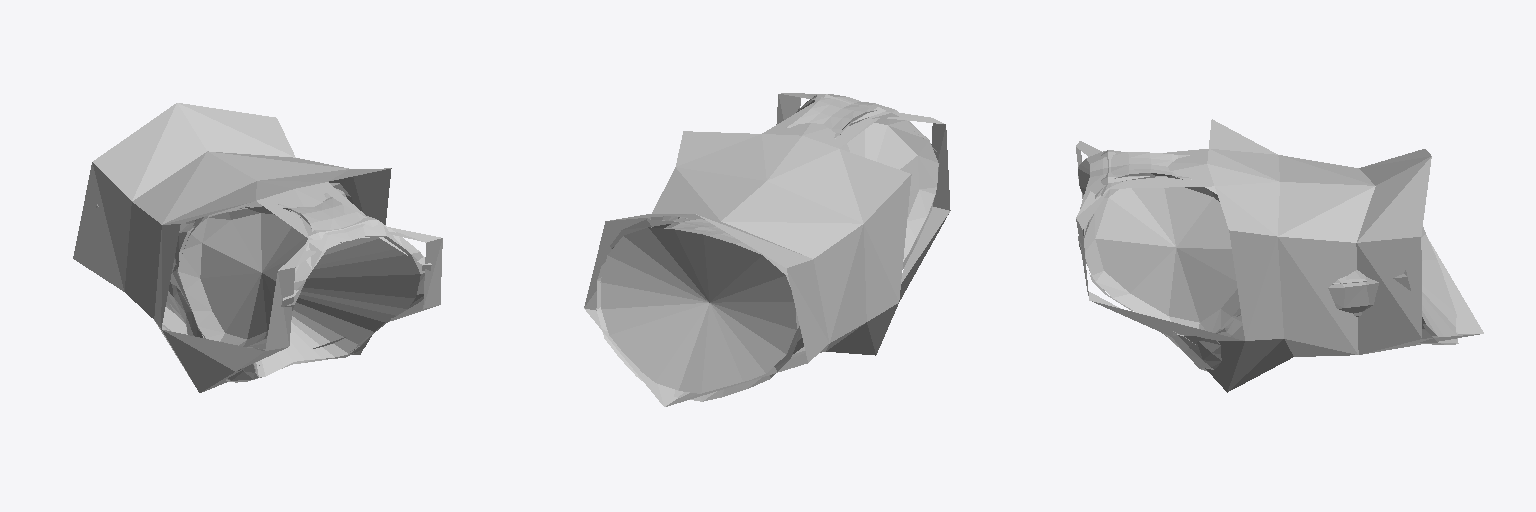
File: jbib_000_u.obj
The picture shows the model from 3 angles: view 1: azimuth 30°, elevation 25°; view 2: azimuth 150°, elevation 25°; view 3: azimuth 270°, elevation 25°; orthographic projection.
Parts seen in each view (by area): view 1: jbib_000_u_low_1, jbib_000_u_high_1, jbib_000_u_med_1; view 2: jbib_000_u_low_1, jbib_000_u_high_1, jbib_000_u_med_1; view 3: jbib_000_u_low_1, jbib_000_u_high_1, jbib_000_u_med_1.
Boxes of the visible parts, x1=… form: jbib_000_u_low_1: x1=73, y1=103, x2=442, y2=392; jbib_000_u_high_1: x1=167, y1=188, x2=424, y2=382; jbib_000_u_med_1: x1=96, y1=183, x2=431, y2=371; jbib_000_u_low_1: x1=584, y1=93, x2=950, y2=406; jbib_000_u_high_1: x1=600, y1=94, x2=938, y2=393; jbib_000_u_med_1: x1=596, y1=94, x2=939, y2=401; jbib_000_u_low_1: x1=1076, y1=119, x2=1483, y2=392; jbib_000_u_high_1: x1=1078, y1=151, x2=1456, y2=371; jbib_000_u_med_1: x1=1078, y1=150, x2=1458, y2=344.
Bounding box in the file's own units: 0.3491 × 0.291 × 0.5474.